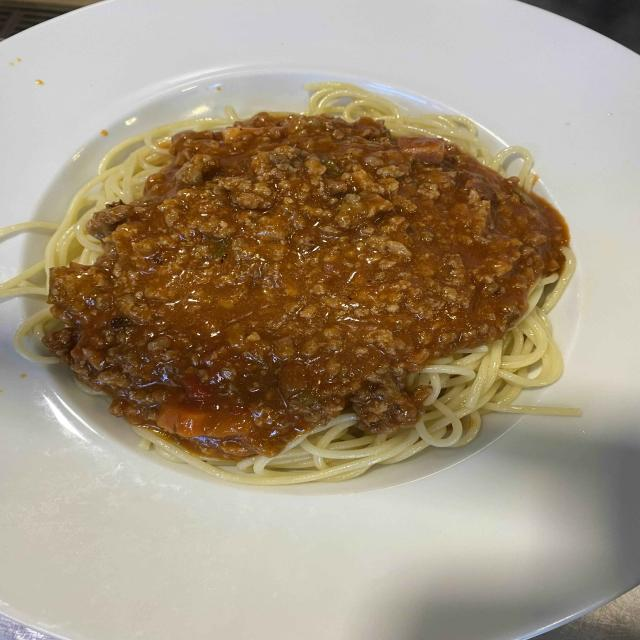minced meat: (43, 112, 570, 463)
plate: (0, 0, 640, 640)
spaghetti: (137, 240, 581, 485), (0, 105, 250, 364), (254, 82, 538, 203)
